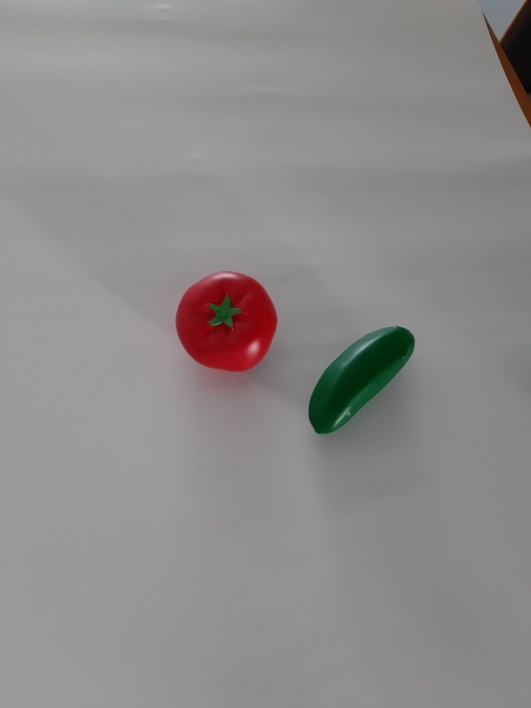cucumber: (298, 316, 426, 445)
tomato: (170, 263, 287, 385)
